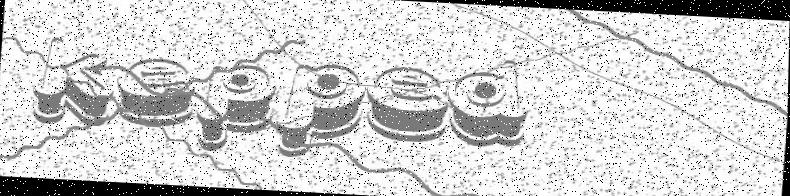d: (445, 57, 529, 149)
e: (364, 65, 451, 142), (115, 57, 197, 129)
k: (32, 37, 117, 127)
p: (275, 62, 366, 159), (195, 63, 274, 153)
